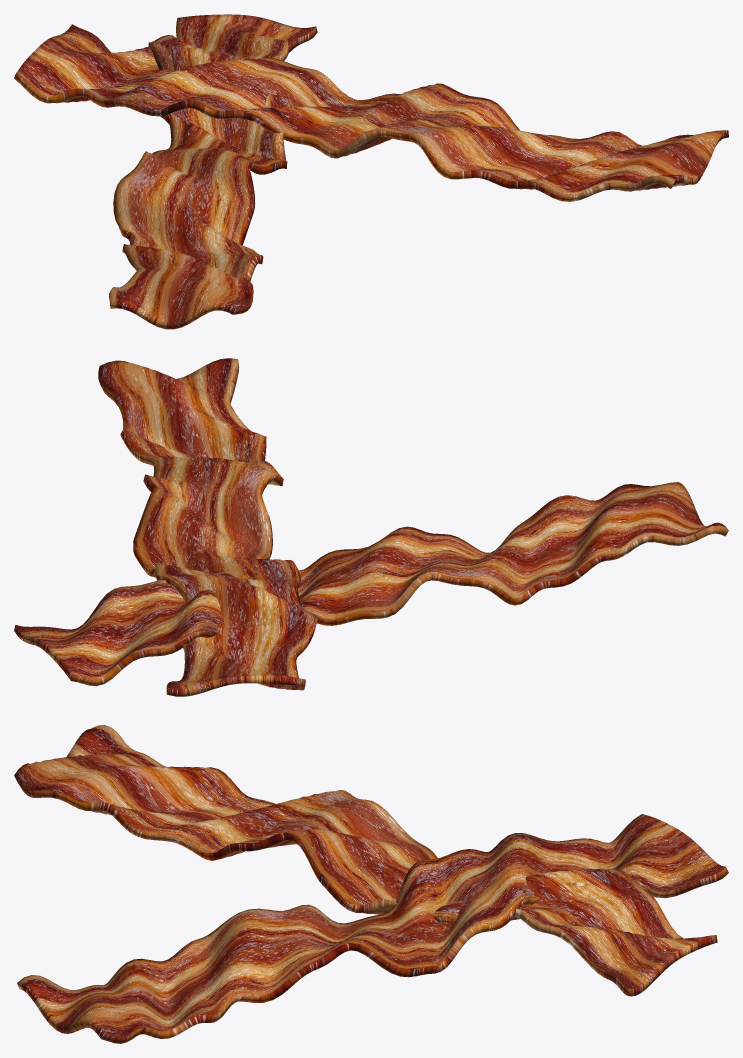
File: bacon.glb
3 renders of one model, top to bottom at view 1: azimuth 30°, elevation 25°; view 2: azimuth 150°, elevation 25°; view 3: azimuth 270°, elevation 25°, orthographic. The views are drawn at different scales.
Parts seen in each view (by area): view 1: Bacon strip 2, Bacon strip 1; view 2: Bacon strip 2, Bacon strip 1; view 3: Bacon strip 2, Bacon strip 1.
Boxes of the visible parts, x1,y1,x2,y2 form: Bacon strip 2: [14, 24, 728, 201]; Bacon strip 1: [109, 14, 317, 329]; Bacon strip 2: [98, 358, 317, 696]; Bacon strip 1: [14, 482, 728, 686]; Bacon strip 2: [17, 814, 728, 1043]; Bacon strip 1: [14, 725, 717, 996].
Bounding box in the file's own units: 2.2 × 0.1975 × 2.05.
Materials: 1 (1 with a texture image).
